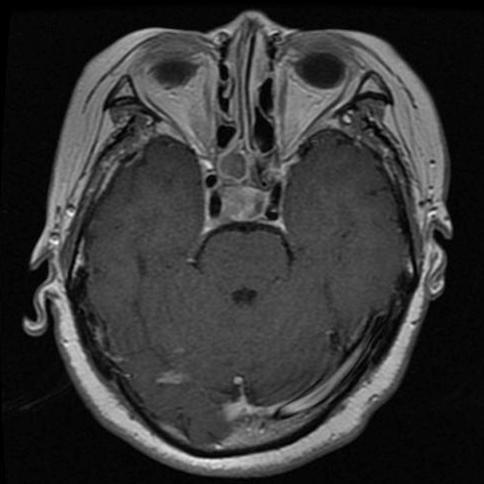Tumour-Pituitary: (201, 169, 293, 241)
